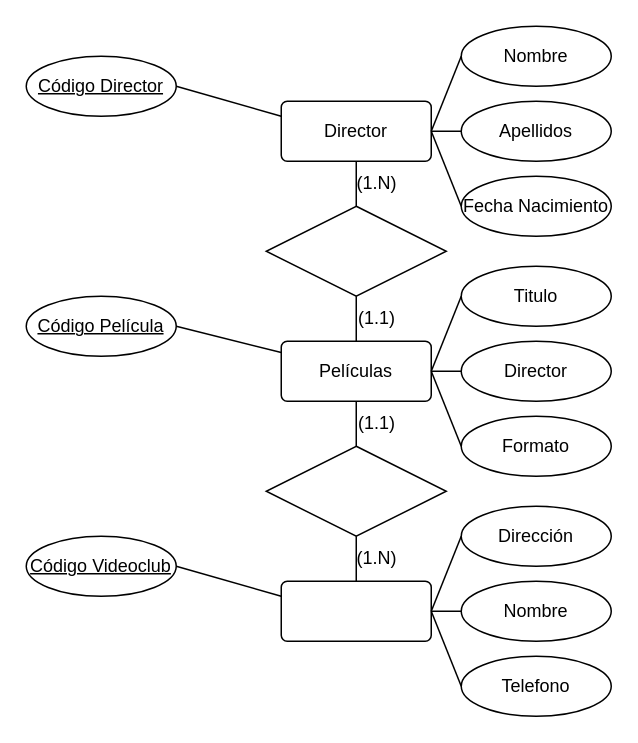
Image size: 638x743. Some labels were removed from this diagram. Here are the shapes that lost their labels. From the top down, the centre of each, then its label:
(355,250): Dirige
(355,490): Pertenece a
(355,610): Videoclub
